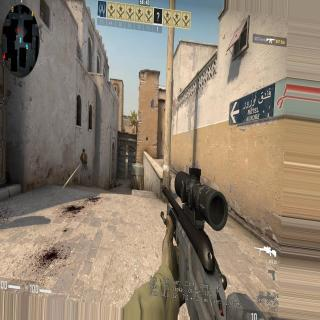T-Body: (79, 148, 91, 185)
T-Head: (82, 148, 85, 155)
